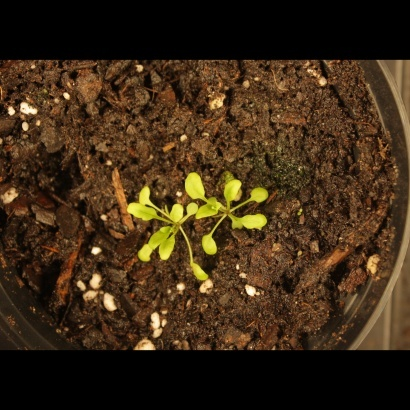leaf: (135, 226, 171, 264), (122, 198, 160, 226), (185, 261, 220, 290), (196, 227, 225, 260), (179, 168, 208, 200), (220, 175, 246, 207), (241, 211, 270, 234), (156, 235, 179, 262), (134, 185, 157, 208), (164, 200, 187, 223), (180, 198, 203, 221), (196, 200, 219, 223), (248, 184, 271, 207), (225, 212, 248, 235)
